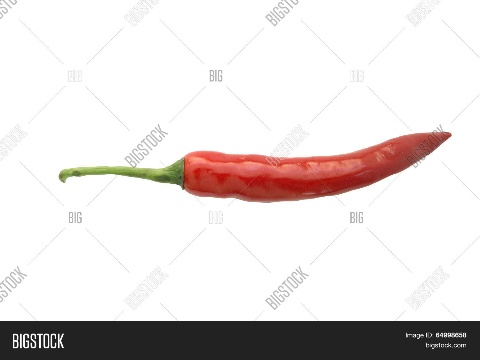Chilli: (43, 125, 465, 224)
